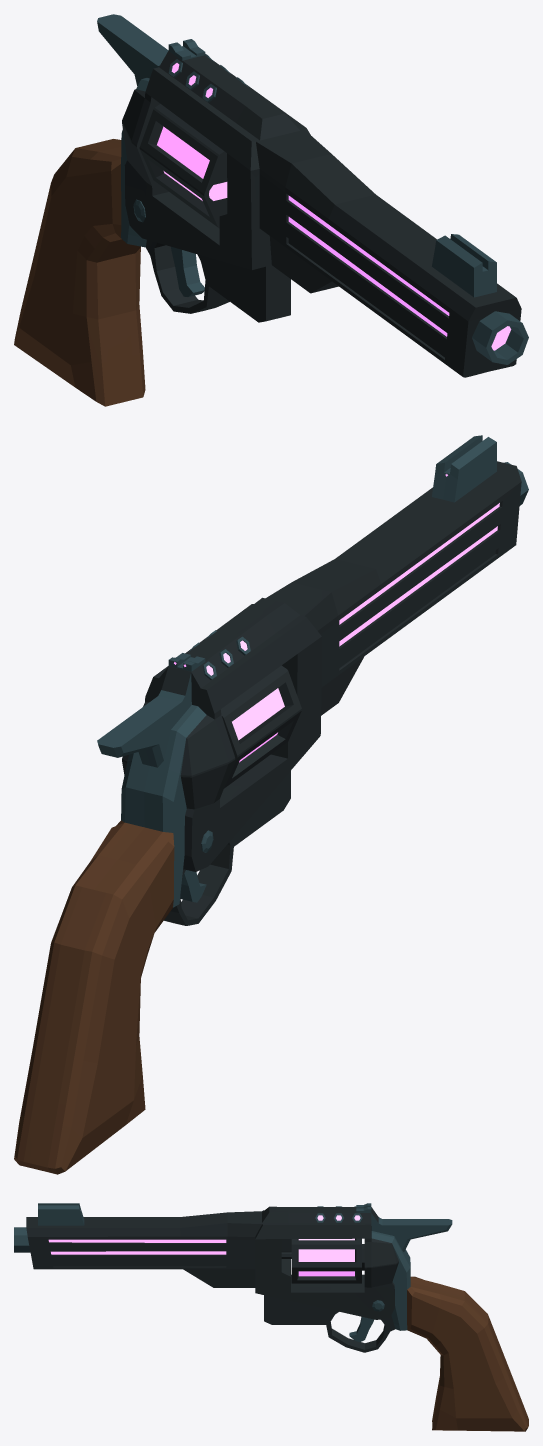
The model's file is Player_Revolver_V01.fbx.
3 views of the same model, one above another, from view 1: azimuth 30°, elevation 25°; view 2: azimuth 150°, elevation 25°; view 3: azimuth 270°, elevation 25° (orthographic). The views are drawn at different scales.
Parts seen in each view (by area): view 1: Player_Revolver_V01, Cylinder, Rev_trigger; view 2: Player_Revolver_V01, Cylinder; view 3: Player_Revolver_V01, Cylinder, Rev_trigger.
Part boxes in pixels (bbox=[...]): Player_Revolver_V01: bbox=[14, 14, 528, 406]; Cylinder: bbox=[139, 104, 227, 228]; Rev_trigger: bbox=[171, 246, 204, 296]; Player_Revolver_V01: bbox=[14, 435, 528, 1174]; Cylinder: bbox=[220, 665, 301, 788]; Player_Revolver_V01: bbox=[14, 1203, 528, 1431]; Cylinder: bbox=[291, 1238, 361, 1283]; Rev_trigger: bbox=[349, 1316, 373, 1341].
Bounding box in the file's own units: 4.89 × 19.29 × 40.58.
